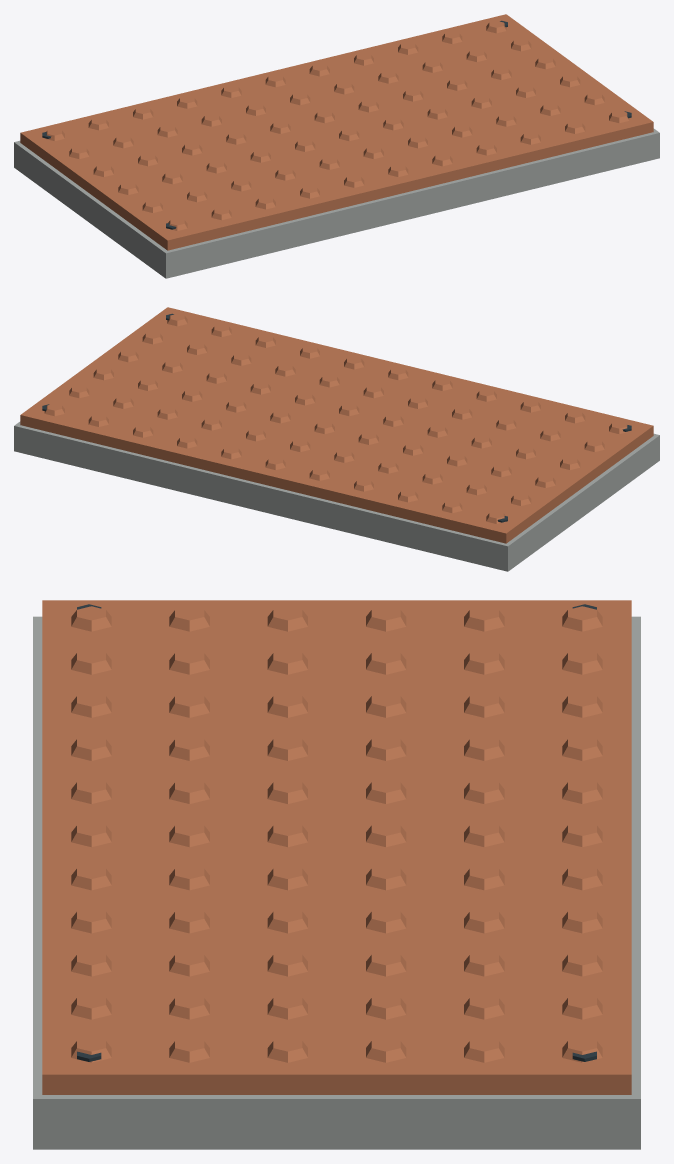
Rendered from b13_truncated_dome_warning_panel.glb.
3 renders of one model, top to bottom at view 1: azimuth 30°, elevation 25°; view 2: azimuth 150°, elevation 25°; view 3: azimuth 270°, elevation 25°, orthographic. The views are drawn at different scales.
Parts seen in each view (by area): view 1: b13_truncated_dome_warning_panel; view 2: b13_truncated_dome_warning_panel; view 3: b13_truncated_dome_warning_panel.
Part boxes in pixels (x1=…): b13_truncated_dome_warning_panel: x1=14, y1=14, x2=659, y2=278; b13_truncated_dome_warning_panel: x1=14, y1=307, x2=659, y2=571; b13_truncated_dome_warning_panel: x1=33, y1=600, x2=640, y2=1149.
Size of the model in its own units: 1.22 by 0.094 by 0.65.
